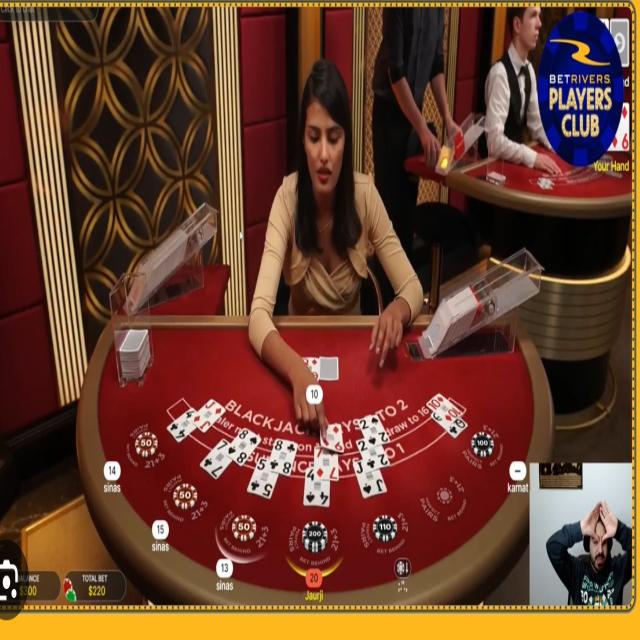Card-10: (425, 393, 463, 424)
Card-2: (356, 438, 390, 473), (358, 415, 390, 449)
Card-4: (166, 406, 197, 443), (303, 467, 330, 507)
Card-5: (247, 458, 279, 498)
Card-7: (199, 437, 232, 479), (314, 445, 338, 480)
Card-8: (224, 428, 261, 467), (266, 437, 298, 476)
Card-9: (320, 425, 343, 452)
Card-J: (353, 460, 387, 499), (190, 398, 226, 432)
Card-Q: (430, 412, 468, 440), (301, 357, 319, 380)
